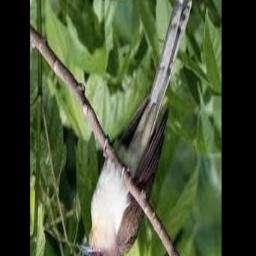Cuckoo: (79, 0, 192, 256)
